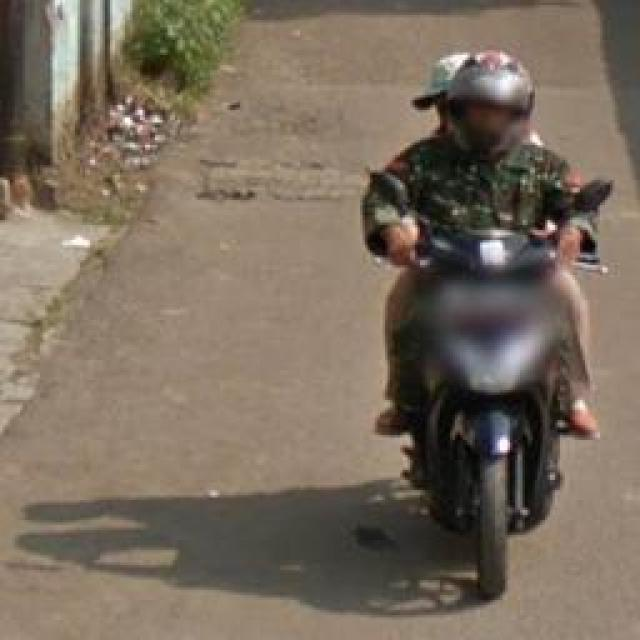motorcycle: (410, 220, 565, 598)
